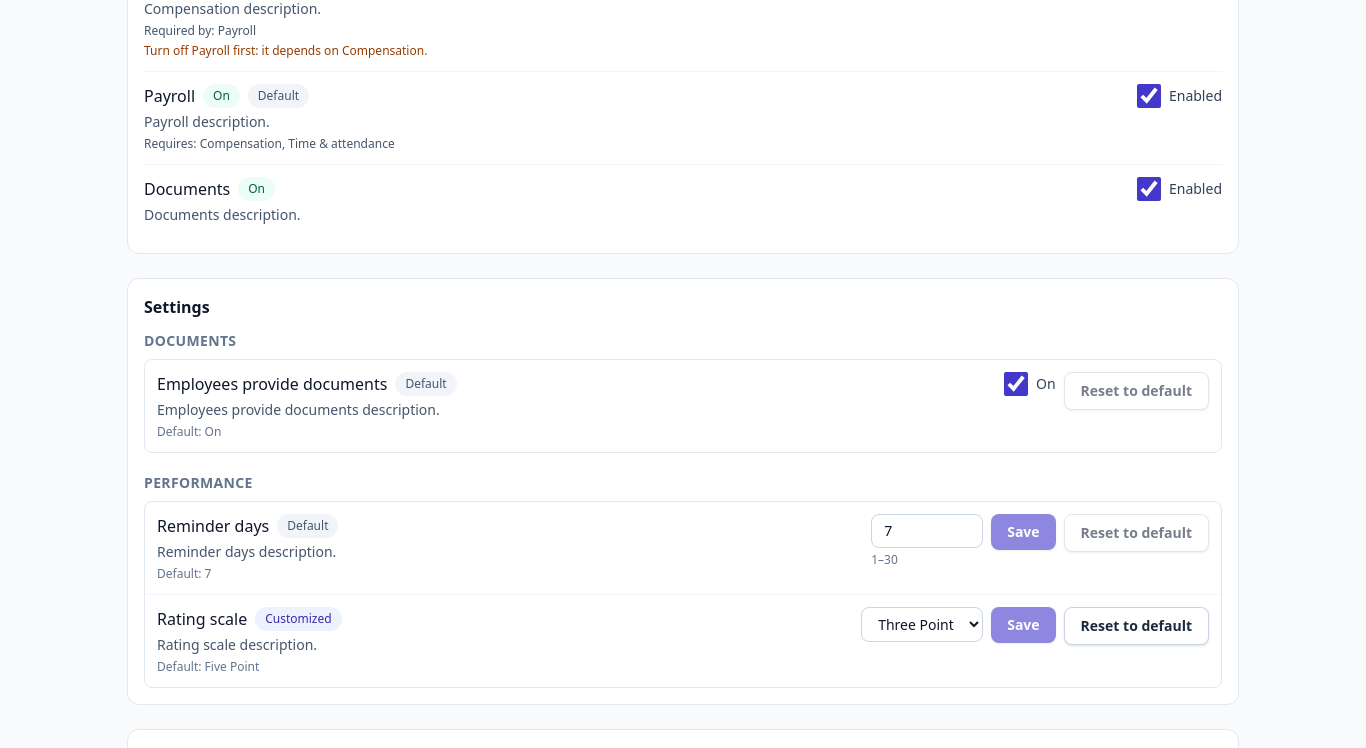
Test: FeaturesAdminPage › reloads with a message after an optimistic-concurrency conflict
(page scrolled)
Expected: the switch named "Payroll enabled" is shown, [1137,84,1161,108]
Click the switch named "Employees provide documents".
click(1016, 384)  # box [1004,372,1028,396]
(page scrolled)
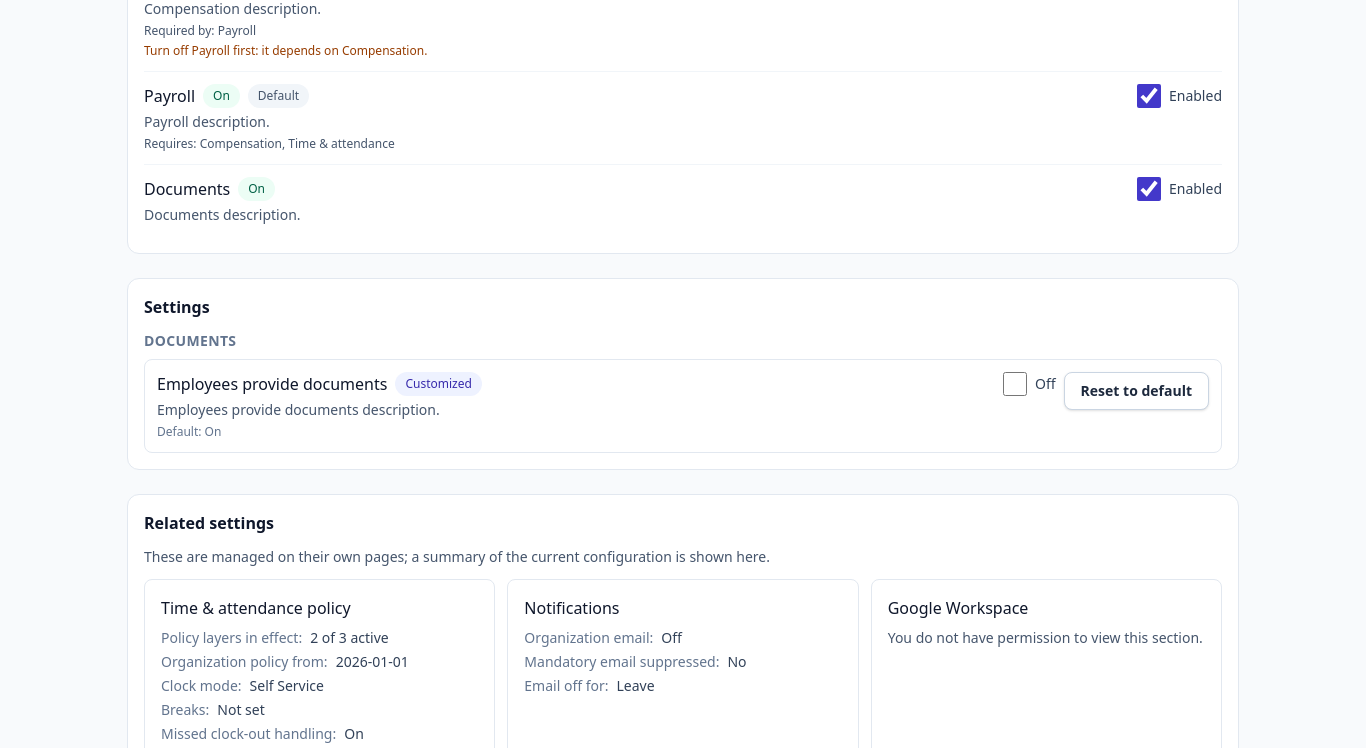
Expected: the switch named "Employees provide documents" is not checked, [1003,372,1027,396]
